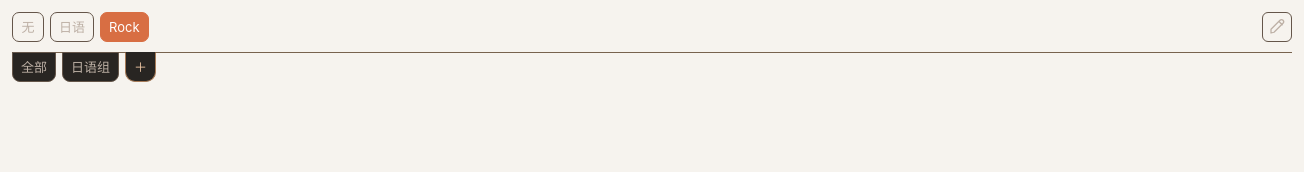
Test: uses one edit button for both rows, protects system items and cancels group edits without applying them
Click the button named "编辑标签和标签组" at (1277, 27), box [1262, 12, 1292, 42]
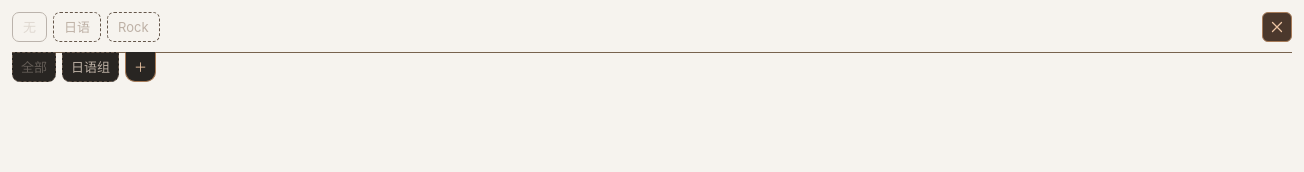
Now the button with aria-label "重命名标签 日语" is shown, box [53, 12, 101, 42]
Now the button with aria-label "系统标签组 全部" is disabled, box [13, 53, 55, 81]
Click the button with aria-label "重命名标签组 日语组" at (90, 67), box [63, 53, 118, 81]
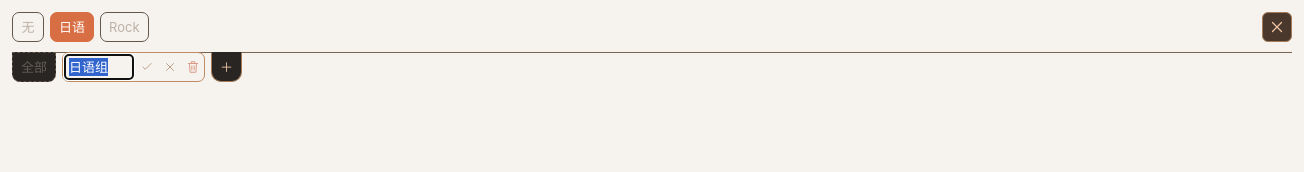
Replace the text in the field named "标签组名称" with "草稿" at (99, 67), box [65, 55, 133, 79]
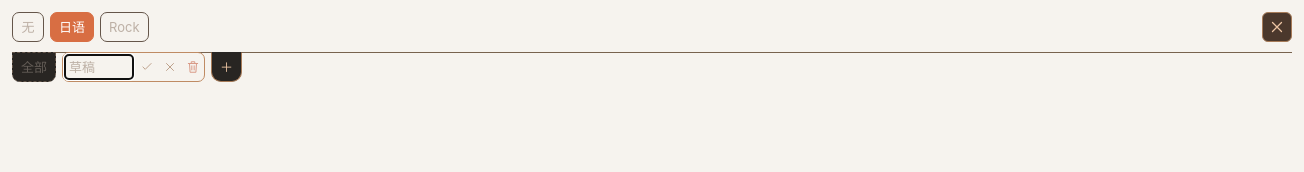
Now the element named "标签组开关" is shown, box [12, 12, 1292, 42]
Click the button with aria-label "标签 Rock" at (124, 27), box [100, 12, 148, 42]
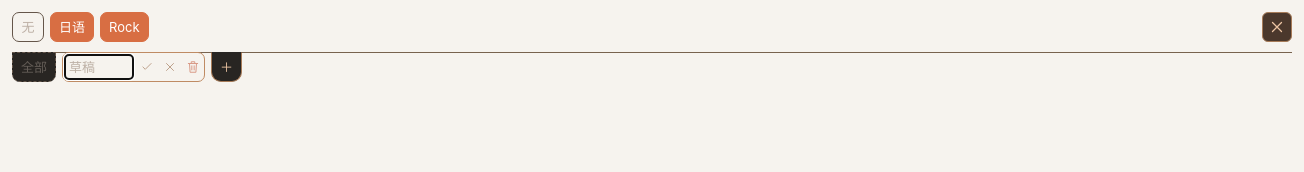
Press Escape in the field named "标签组名称", box [65, 55, 133, 79]
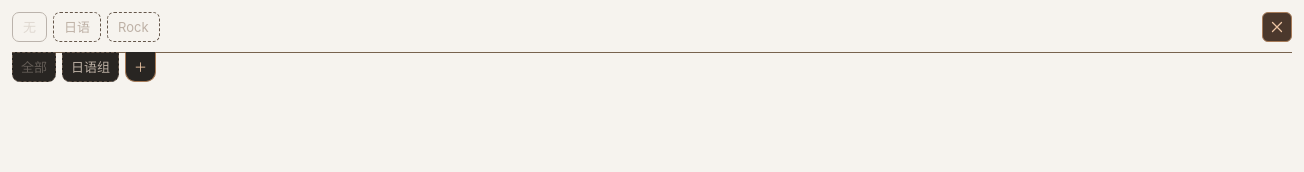
Now the form "重命名标签组" is gone
Click the button named "完成编辑" at (1277, 27), box [1262, 12, 1292, 42]
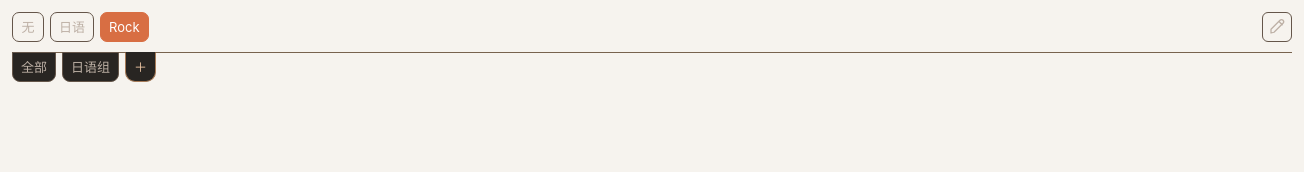
Now the button with aria-label "应用标签组 日语组" is shown, box [63, 53, 118, 81]
